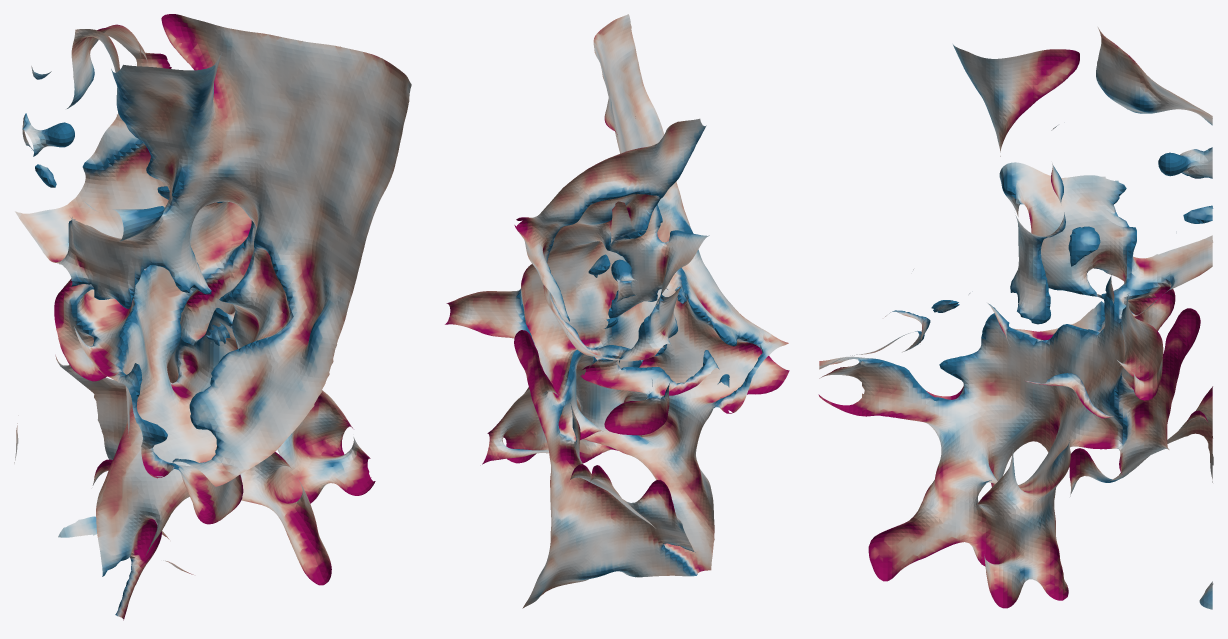
Rendered from crop1135_deviation.glb.
The picture shows the model from 3 angles, left to right: view 1: azimuth 30°, elevation 25°; view 2: azimuth 150°, elevation 25°; view 3: azimuth 270°, elevation 25°; orthographic projection. The views are drawn at different scales.
Visible parts, largest first — view 1: world; view 2: world; view 3: world.
Boxes of the visible parts, bbox=[...] form: world: bbox=[14, 14, 411, 620]; world: bbox=[445, 14, 789, 608]; world: bbox=[818, 27, 1213, 609].
Bounding box in the file's own units: 1080 × 2279 × 1480.
